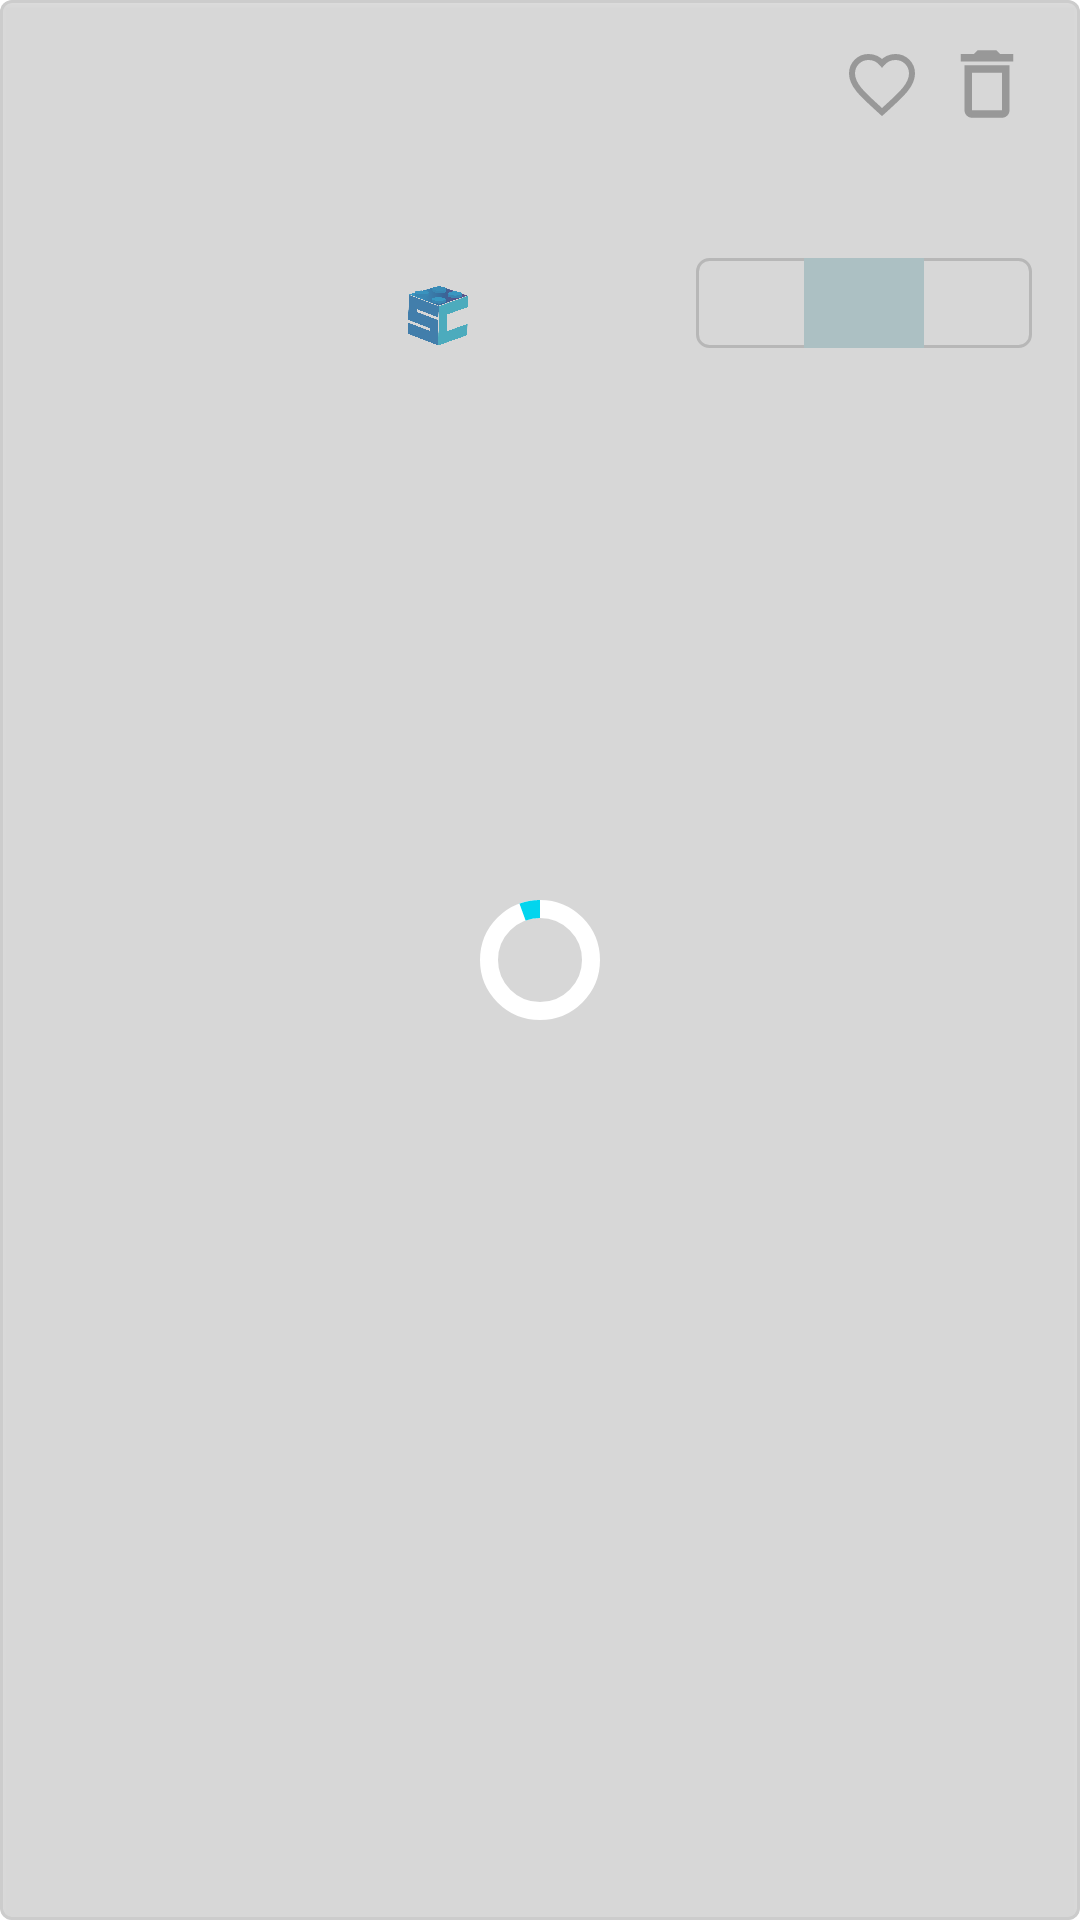

Named icons in this screenshot (1080*1920) and their bounding boxes, (x1, y1, x2, y2):
Like Button: (849, 54, 915, 116)
Remove Product Button: (961, 50, 1013, 118)
